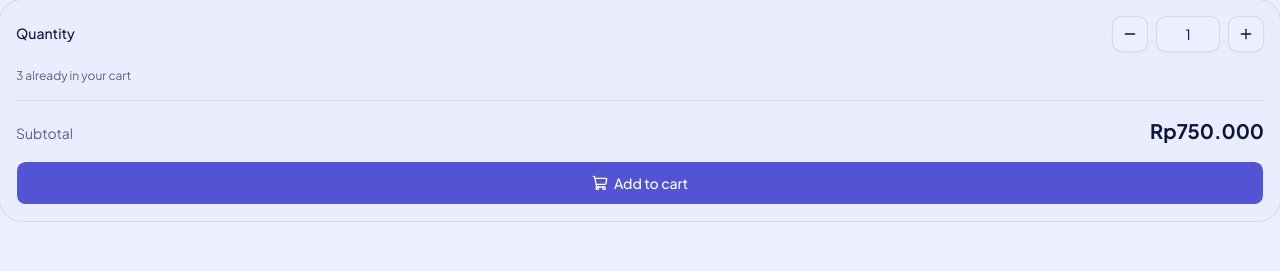
Test: PurchasePanel - validasi stok › quantity melebihi sisa stok menampilkan error
The image size is (1280, 271).
Click the button named "Increase quantity" at [1246, 34], box [1228,16,1264,52]
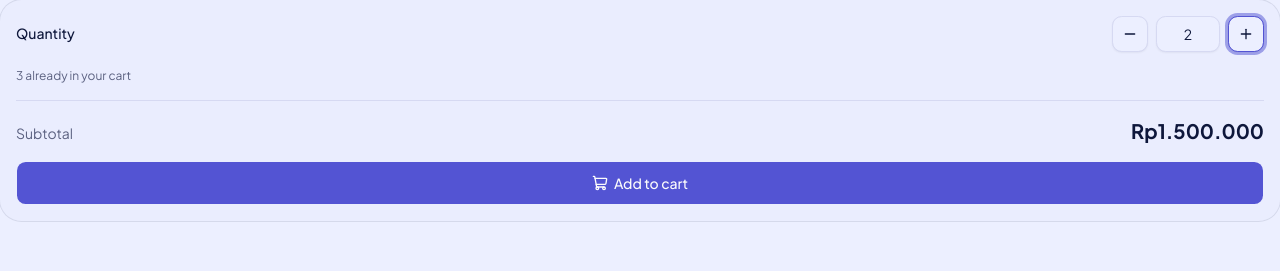
Click the button named "Increase quantity" at [1246, 34], box [1228,16,1264,52]
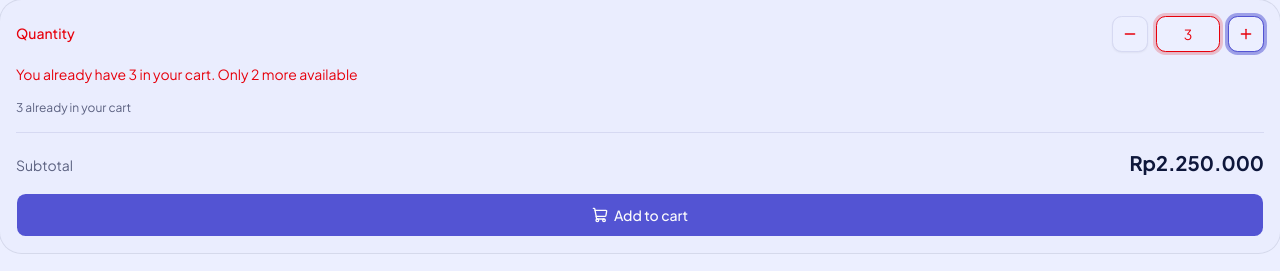
expect the text "You already have 3 in your cart. Only 2 more available" is shown: met, box [16,65,358,83]
